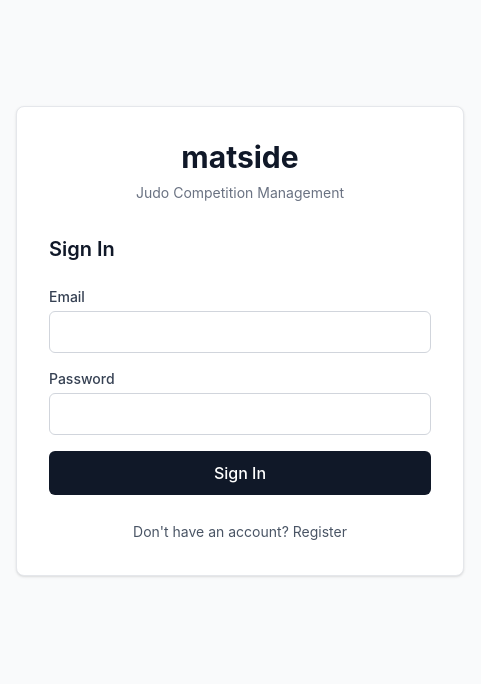
Test case: LoginPage › switches to register form when toggle is clicked
Click the button "Don't have an account? Register".
click(240, 532)  # box [133,522,347,542]
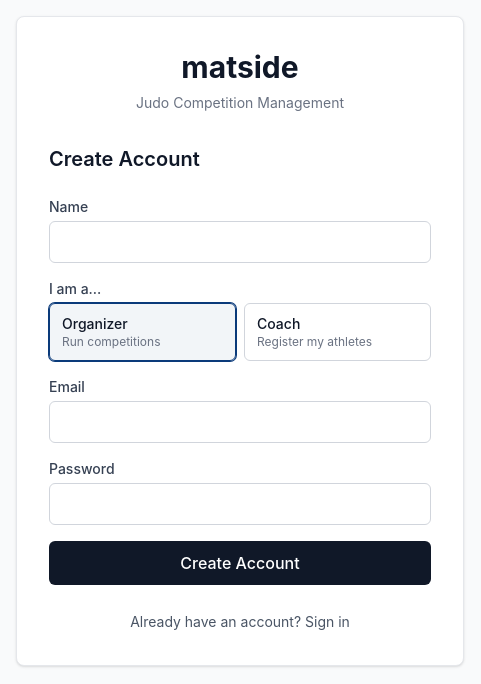
Check: the heading "Create Account" is shown, box [49,147,200,171]
Check: the button "Create Account" is shown, box [49,541,431,585]
